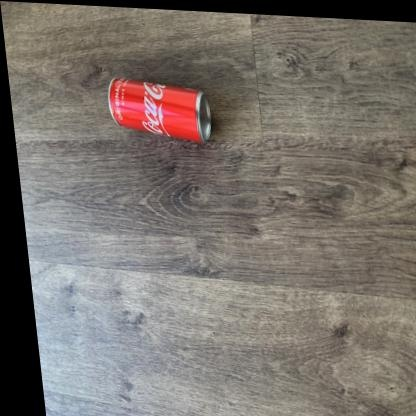trash: (108, 79, 210, 142)
